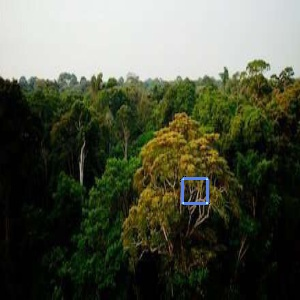square: (179, 176, 210, 206)
